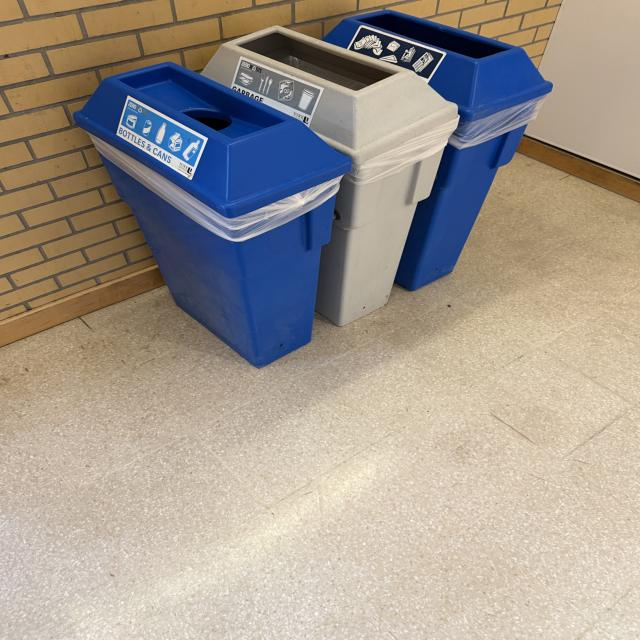Dustbin: (70, 8, 552, 369)
